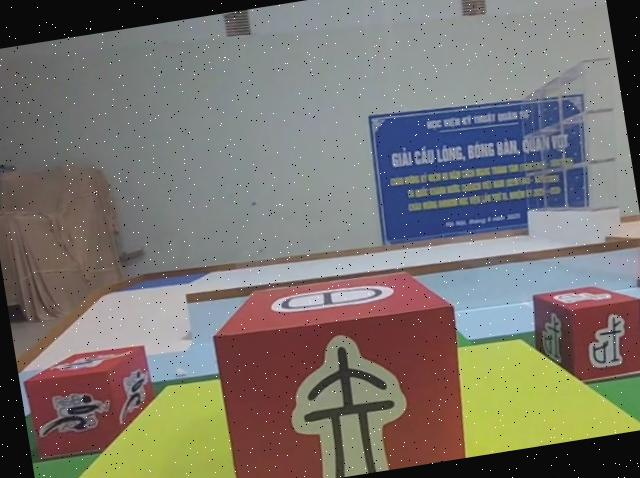R1: (17, 338, 168, 462)
R2 Fake: (202, 254, 478, 478)
R2 Real: (522, 274, 640, 391)
